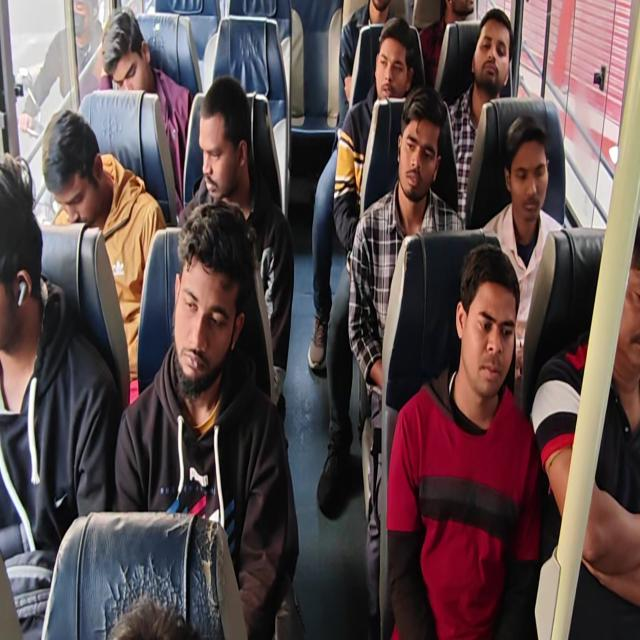person: (455, 247, 532, 399), (168, 230, 238, 384), (0, 152, 47, 336), (31, 120, 120, 217), (193, 79, 256, 202), (606, 261, 640, 385), (101, 22, 154, 100), (403, 100, 439, 198), (510, 128, 551, 212), (369, 39, 416, 106), (477, 20, 509, 91), (358, 0, 395, 19)
